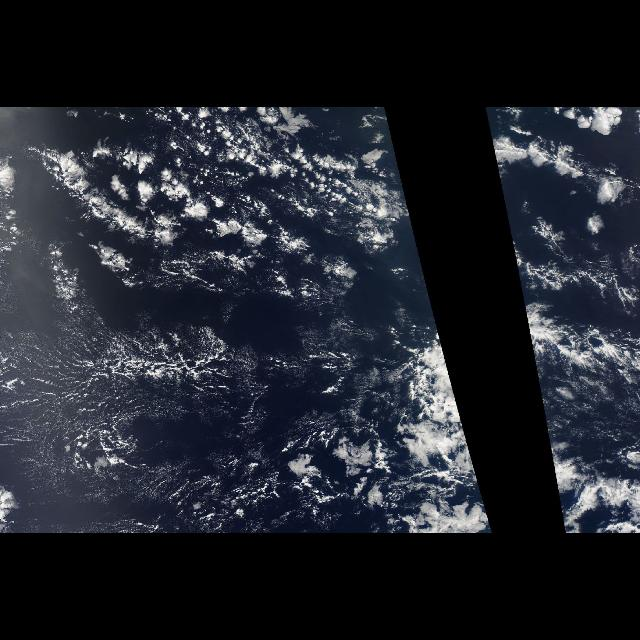Fish: (0, 325, 252, 423)
Flower: (49, 136, 363, 302), (489, 128, 631, 215)
Sugar: (0, 316, 234, 490)
